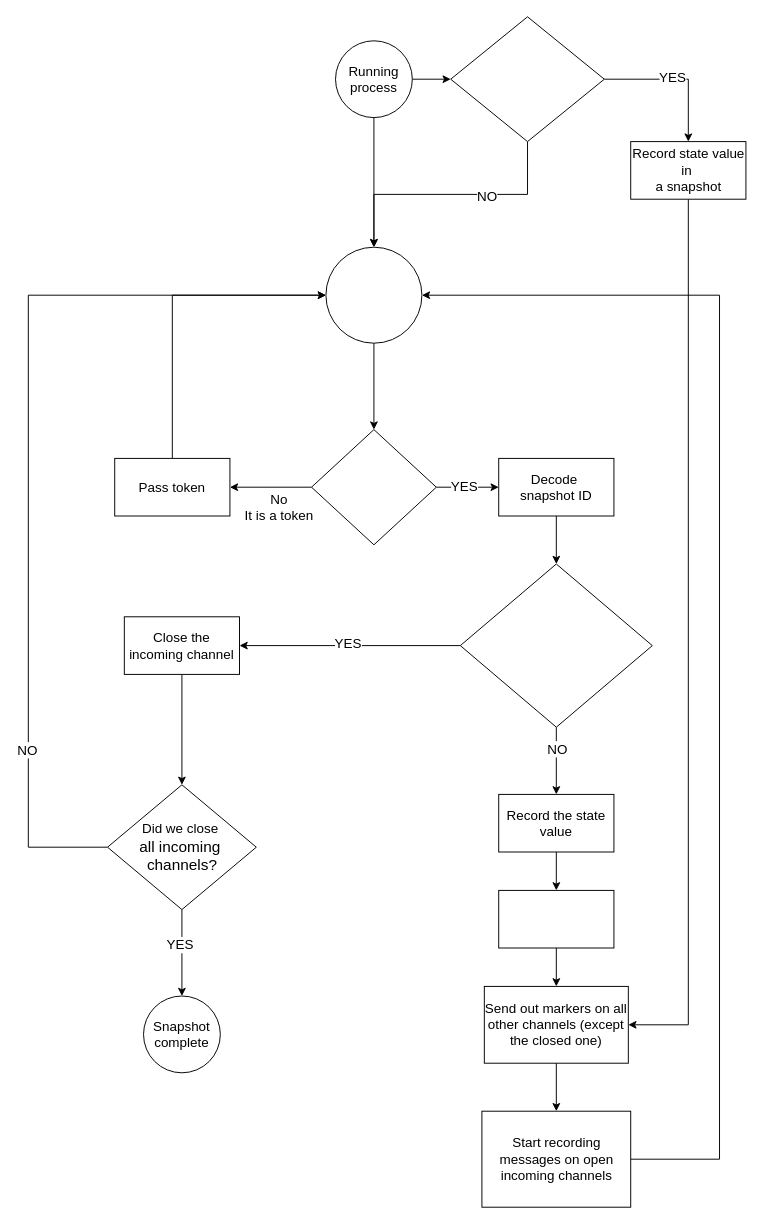
Image size: 762x1224. Some labels were removed from this diagram. The shapes that lost their labels are listed below. From the top down, each one's centre as x and y in pixels, then its label:
At [527,79]: "Initialize snapshot?".
At [373,294]: "Handle incoming messages".
At [373,487]: "Is the message a Marker?".
At [555,645]: "Do we have a snapshot being captured for the same ID?".
At [556,918]: "Close the channel that received the marker".
